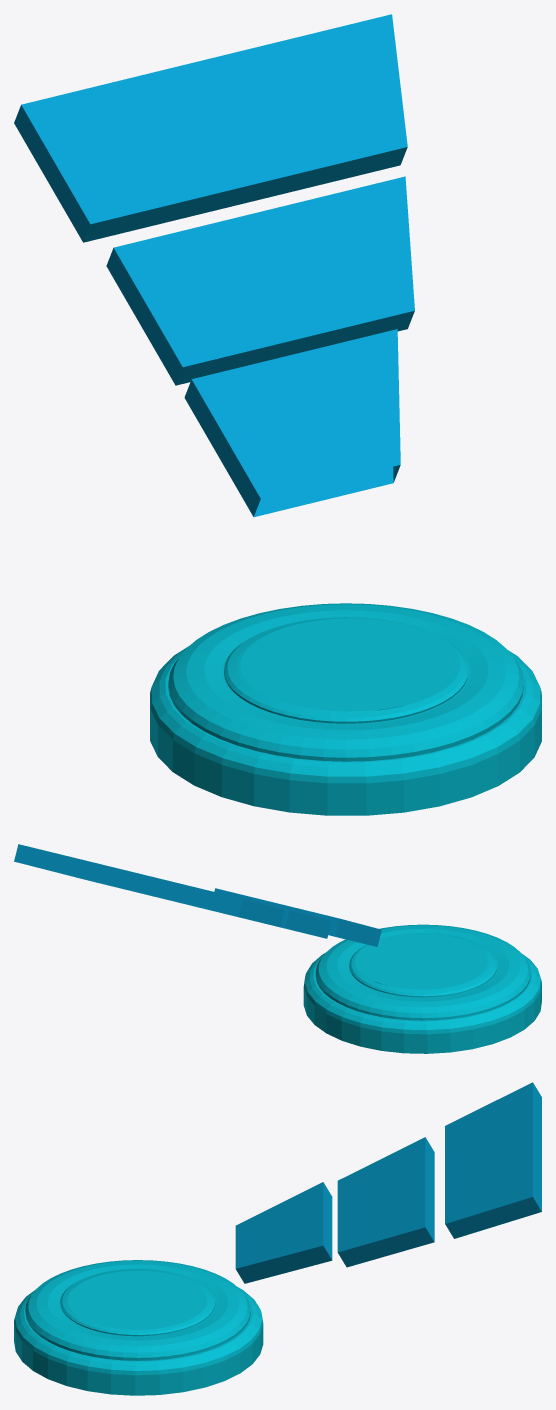
Rendered from menu 3B .fbx.
The picture shows the model from 3 angles, top to bottom: view 1: azimuth 30°, elevation 25°; view 2: azimuth 150°, elevation 25°; view 3: azimuth 270°, elevation 25°; orthographic projection. The views are drawn at different scales.
Parts seen in each view (by area): view 1: Cube.004, Cube.005, Cube.003, Cube.002; view 2: Cube.004, Cube.005, Cube.002, Cube.003; view 3: Cube.004, Cube.005, Cube.003, Cube.002.
Boxes of the visible parts, box(x1,y1,x2,y2) form: Cube.004: box(150, 603, 541, 815); Cube.005: box(14, 14, 407, 242); Cube.003: box(106, 176, 414, 385); Cube.002: box(184, 329, 400, 517); Cube.004: box(303, 924, 541, 1053); Cube.005: box(14, 844, 284, 927); Cube.002: box(214, 888, 381, 946); Cube.003: box(252, 901, 331, 938); Cube.004: box(14, 1260, 263, 1395); Cube.005: box(445, 1082, 541, 1238); Cube.003: box(337, 1137, 434, 1267); Cube.002: box(235, 1182, 332, 1283).
Size of the model in its own units: 309 by 227 by 423.
